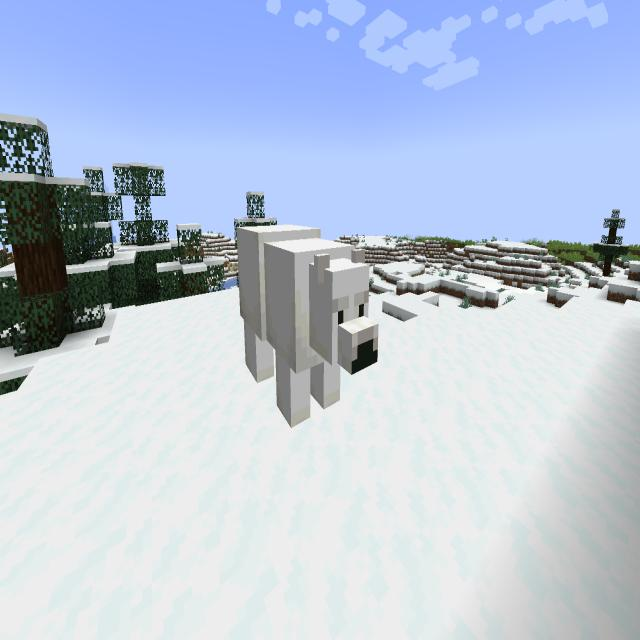Polar Bear: (230, 209, 386, 465)
